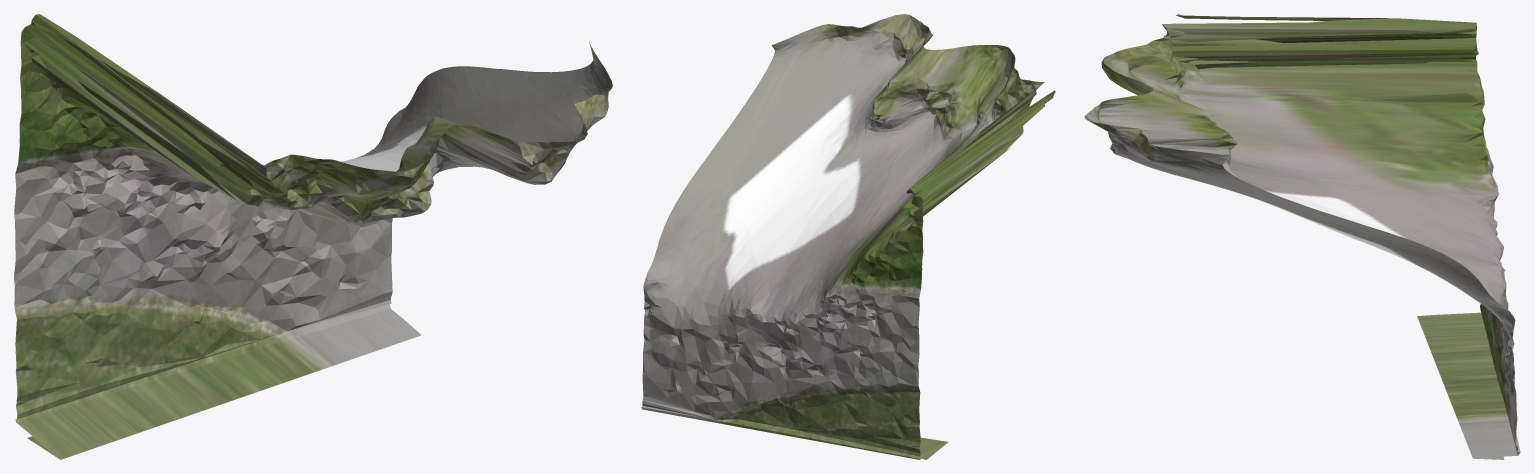
File: map_0_80.obj
3 renders of one model, left to right at view 1: azimuth 30°, elevation 25°; view 2: azimuth 150°, elevation 25°; view 3: azimuth 270°, elevation 25°, orthographic. The views are drawn at different scales.
Parts seen in each view (by area): view 1: grp1; view 2: grp1; view 3: grp1.
Part boxes in pixels (<box>): grp1: <box>14,14,612,459</box>; grp1: <box>641,14,1055,459</box>; grp1: <box>1084,14,1520,459</box>.
Size of the model in its own units: 10 by 10 by 12.99.
Materials: 1 (1 with a texture image).
